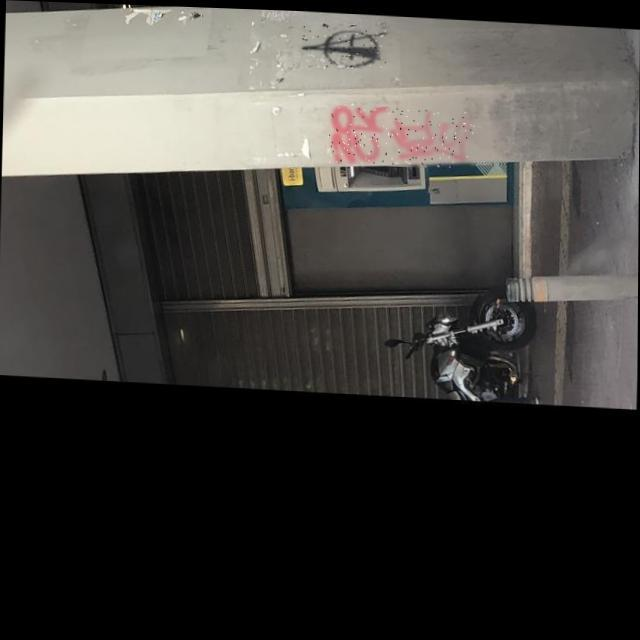-: (328, 102, 474, 166), (300, 22, 386, 66)
